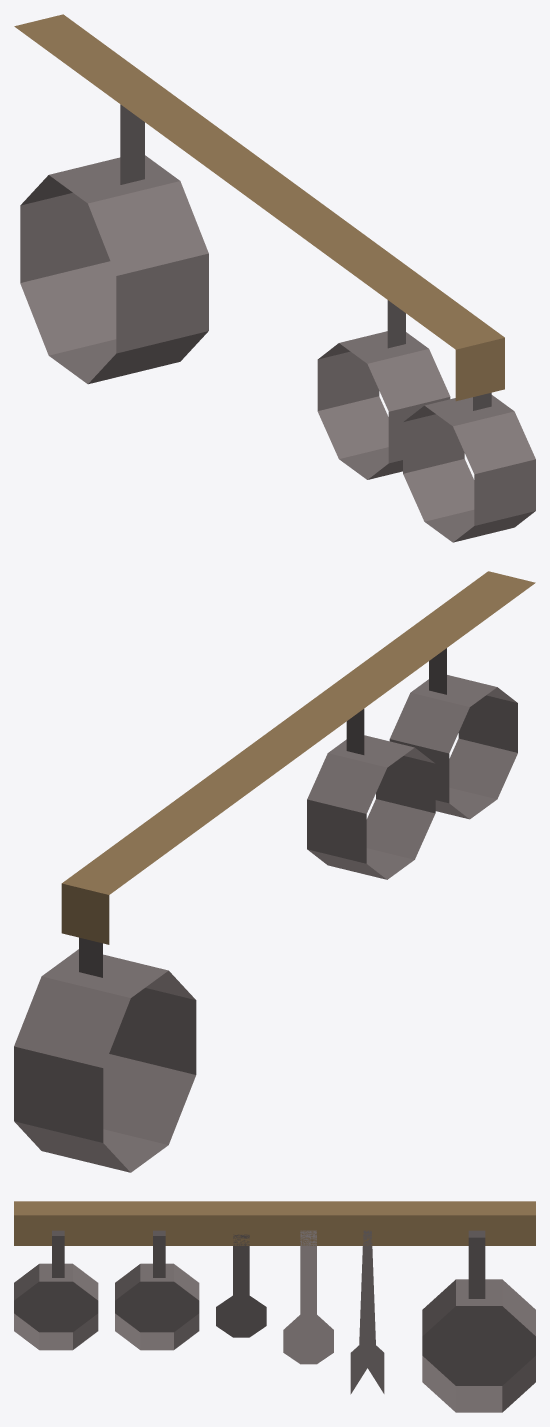
3 views of the same model, one above another, from view 1: azimuth 30°, elevation 25°; view 2: azimuth 150°, elevation 25°; view 3: azimuth 270°, elevation 25° (orthographic). The views are drawn at different scales.
Size of the model in its own units: 16 by 48 by 124.
1 material, 1 textured.
